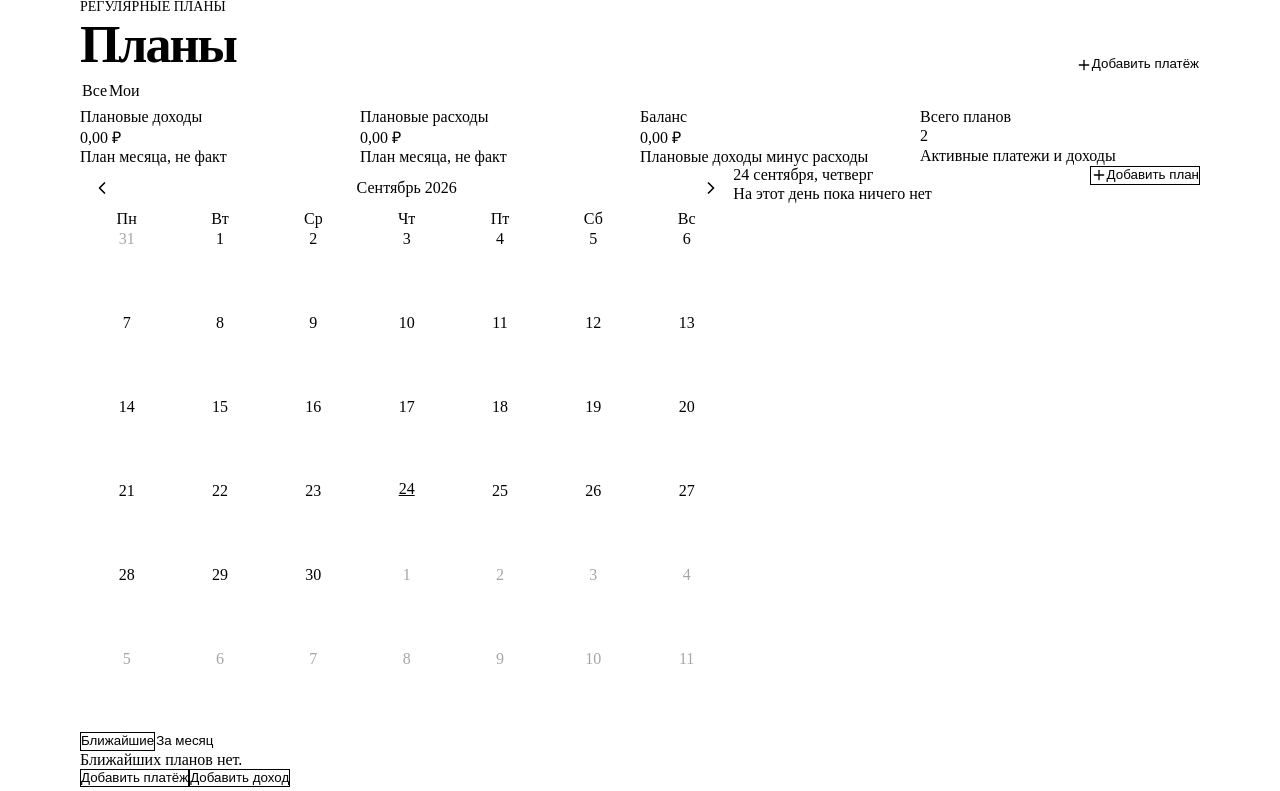
Test: plans page › shows a completed plan on the day of the operation that settled it
Click the button with test id "calendar-day-2026-09-10".
click(407, 354)  # box [360,312,453,396]
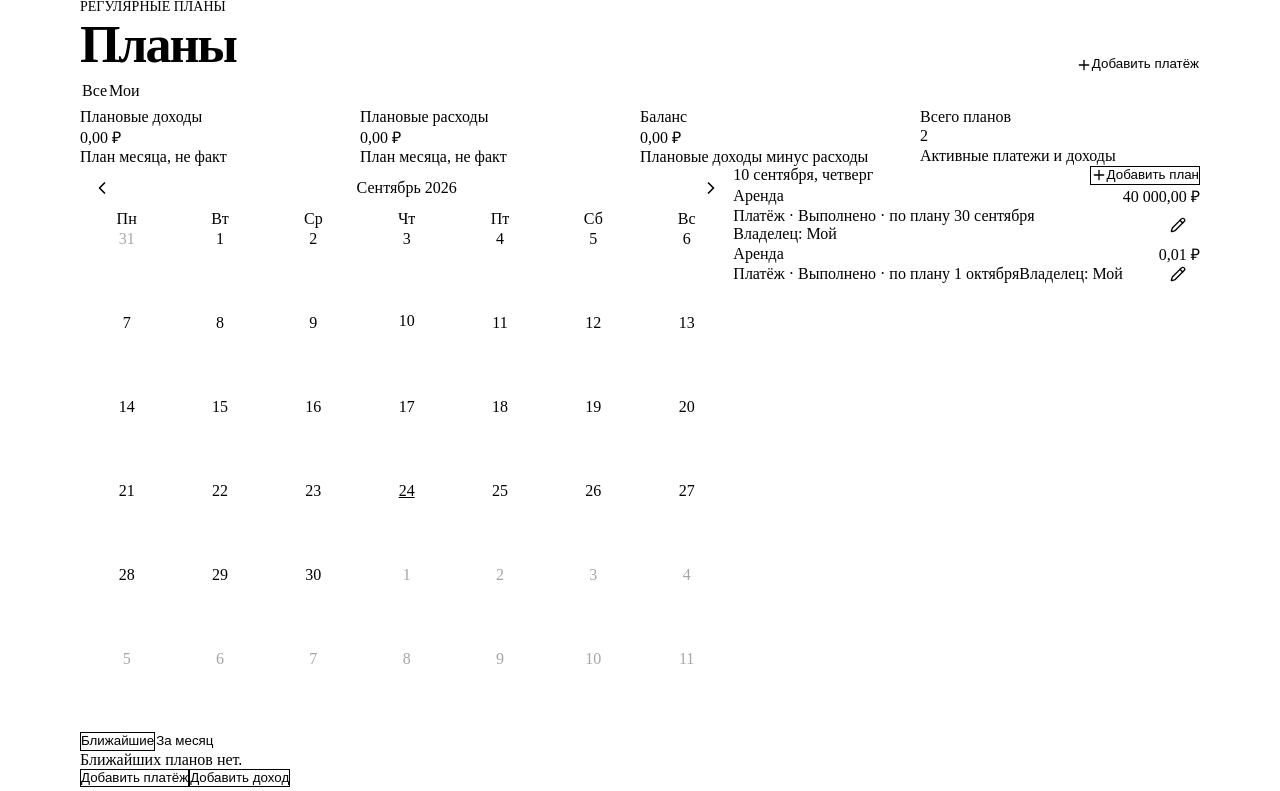
Check: the list item with test id "day-item-occ-rent" is shown, box [733,185,1200,243]
Check: the list item with test id "day-item-occ-next" is shown, box [733,243,1200,283]
Click the button with test id "calendar-day-2026-09-30".
click(313, 606)  # box [267,564,360,648]
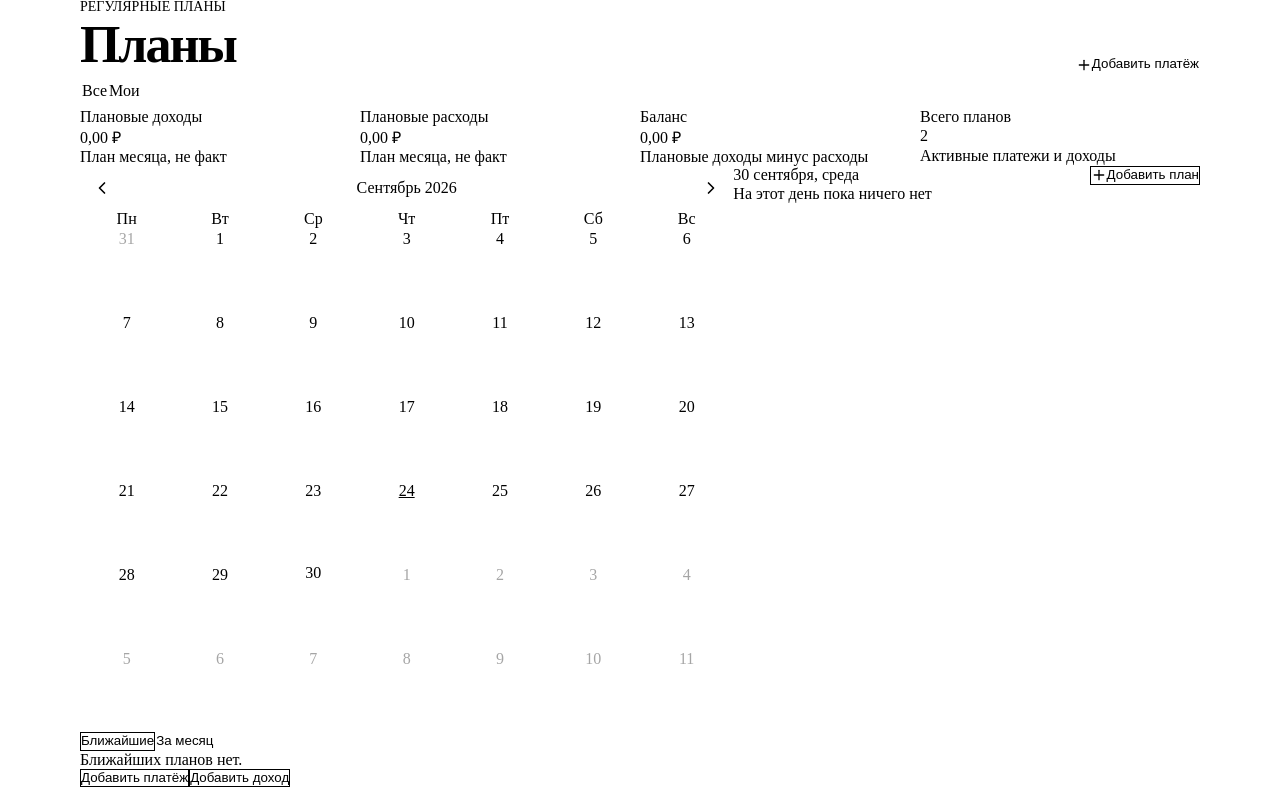
# The month list keeps the plans scheduled in this month only.
Click the tab with test id "list-mode-all".
click(185, 741)  # box [155,732,214,751]
(page scrolled)
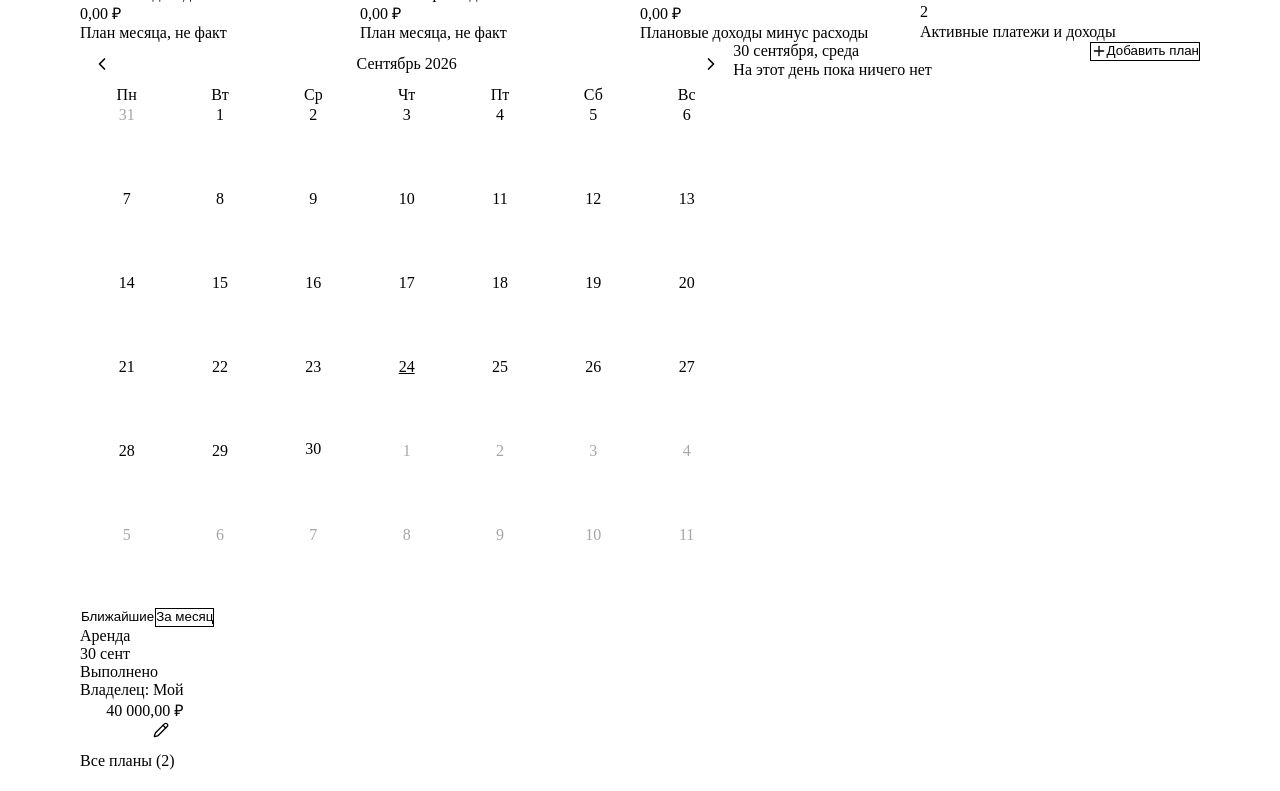
Check: the list item with test id "obligation-row-occ-rent" is shown, box [80,627,184,739]
